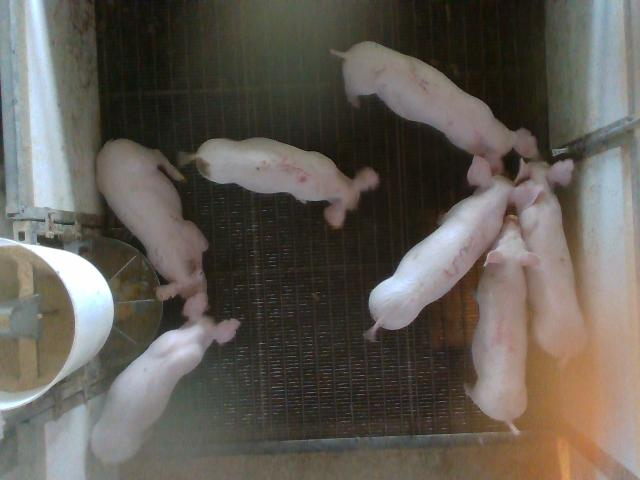pig-3: (365, 156, 539, 341)
pig-4: (464, 216, 539, 434)
pig-5: (179, 138, 379, 228)
